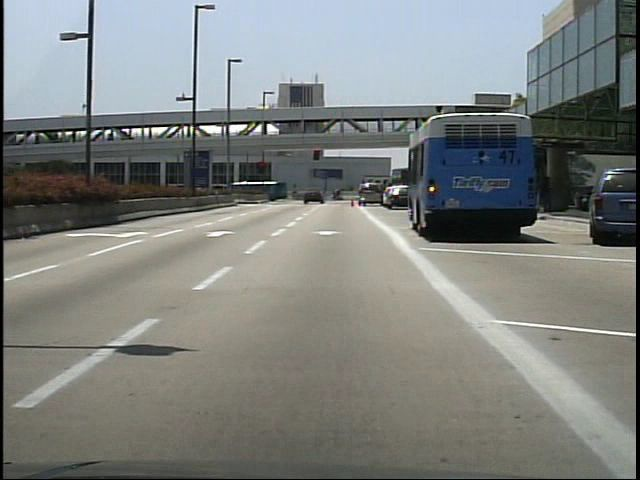person: (541, 175, 556, 211), (334, 187, 346, 202), (337, 187, 338, 202)
